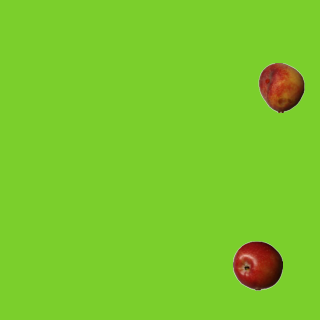Apple Braeburn: (232, 240, 282, 290)
Peach: (256, 62, 306, 112)
